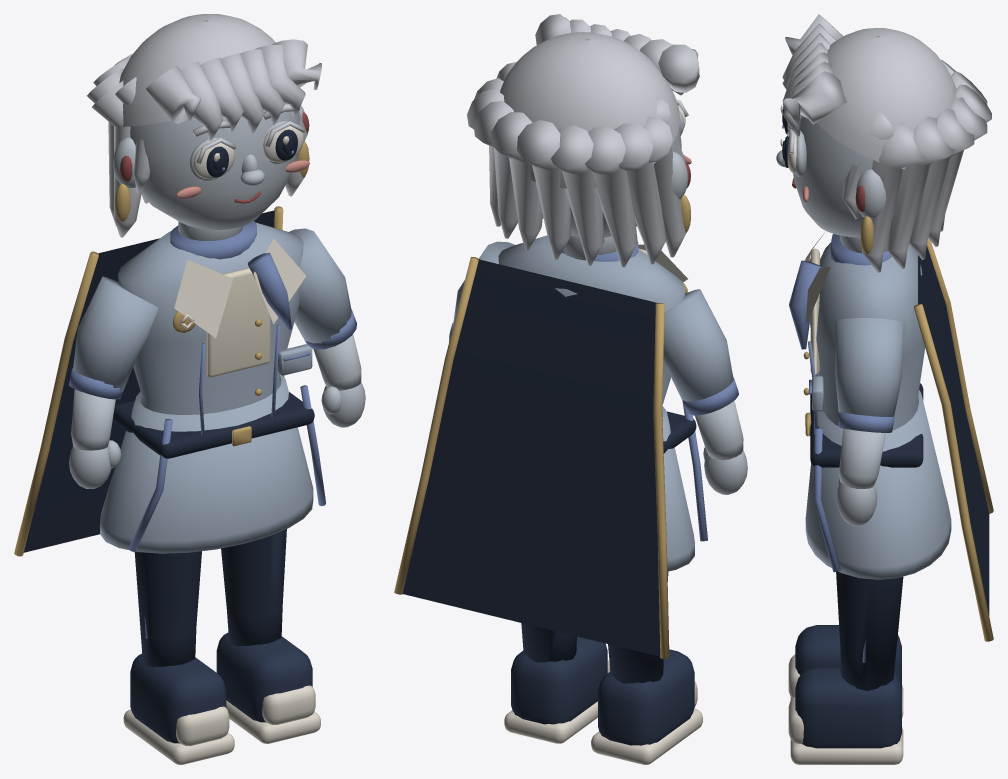
Rendered from grave_character_ghost.glb.
The picture shows the model from 3 angles, left to right: view 1: azimuth 30°, elevation 25°; view 2: azimuth 150°, elevation 25°; view 3: azimuth 270°, elevation 25°; orthographic projection.
Visible parts, largest first — view 1: figure.009; view 2: figure.009; view 3: figure.009.
Part boxes in pixels (x1,y1,x2,y2): figure.009: (14,14,365,764); figure.009: (394,14,747,764); figure.009: (776,14,993,764).
Size of the model in its own units: 1.09 by 2.5 by 0.7093.
